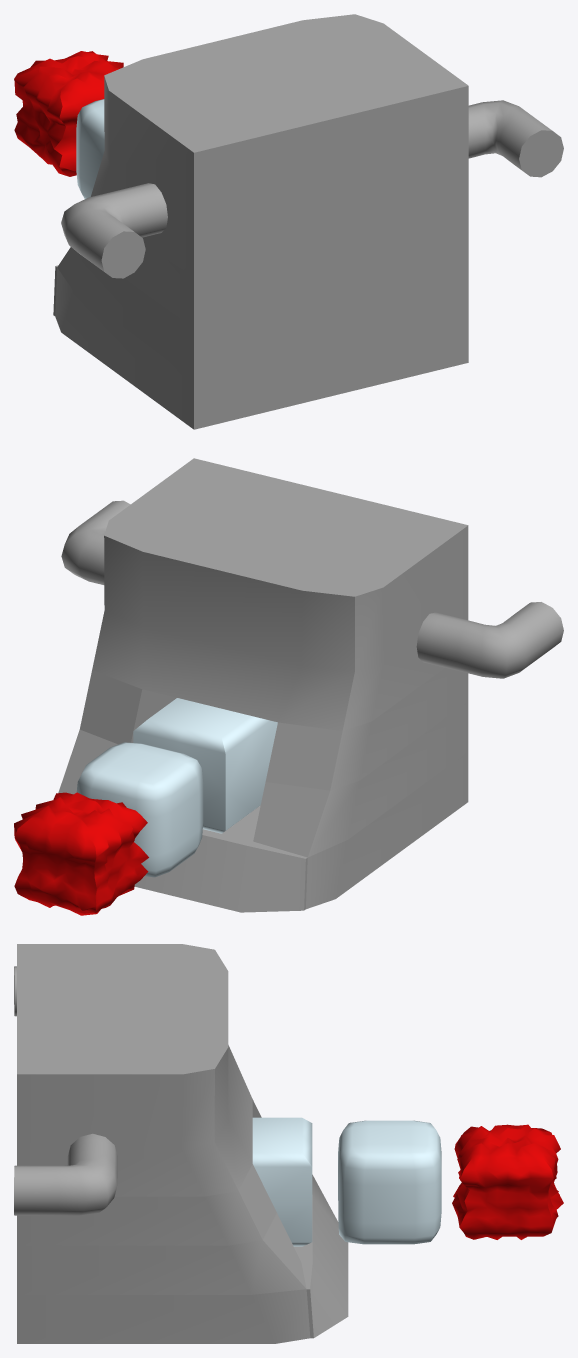
Rendered from macchina ghiaccio + cubi (1).fbx.
The picture shows the model from 3 angles, top to bottom: view 1: azimuth 30°, elevation 25°; view 2: azimuth 150°, elevation 25°; view 3: azimuth 270°, elevation 25°; orthographic projection. The views are drawn at different scales.
Parts seen in each view (by area): view 1: body, HP__coal, pCylinder1, pCylinder2, HP_ice; view 2: body, HP__coal, HP_ice, LP_ice, pCylinder1, pCylinder2; view 3: body, HP_ice, HP__coal, pCylinder2, LP_ice.
Part boxes in pixels (box(x1,y1,x2,y2)): body: box(53, 14, 468, 429); HP__coal: box(14, 51, 123, 176); pCylinder1: box(61, 183, 167, 278); pCylinder2: box(468, 100, 563, 177); HP_ice: box(76, 99, 104, 198); body: box(58, 458, 468, 912); HP__coal: box(14, 792, 148, 915); HP_ice: box(76, 742, 203, 877); LP_ice: box(133, 698, 277, 833); pCylinder1: box(416, 602, 563, 678); pCylinder2: box(61, 500, 130, 584); body: box(17, 944, 348, 1343); HP_ice: box(338, 1120, 441, 1244); HP__coal: box(452, 1124, 563, 1239); pCylinder2: box(14, 1133, 117, 1215); LP_ice: box(252, 1117, 312, 1246).
Bounding box in the file's own units: 3.84 × 2.2 × 4.07.
